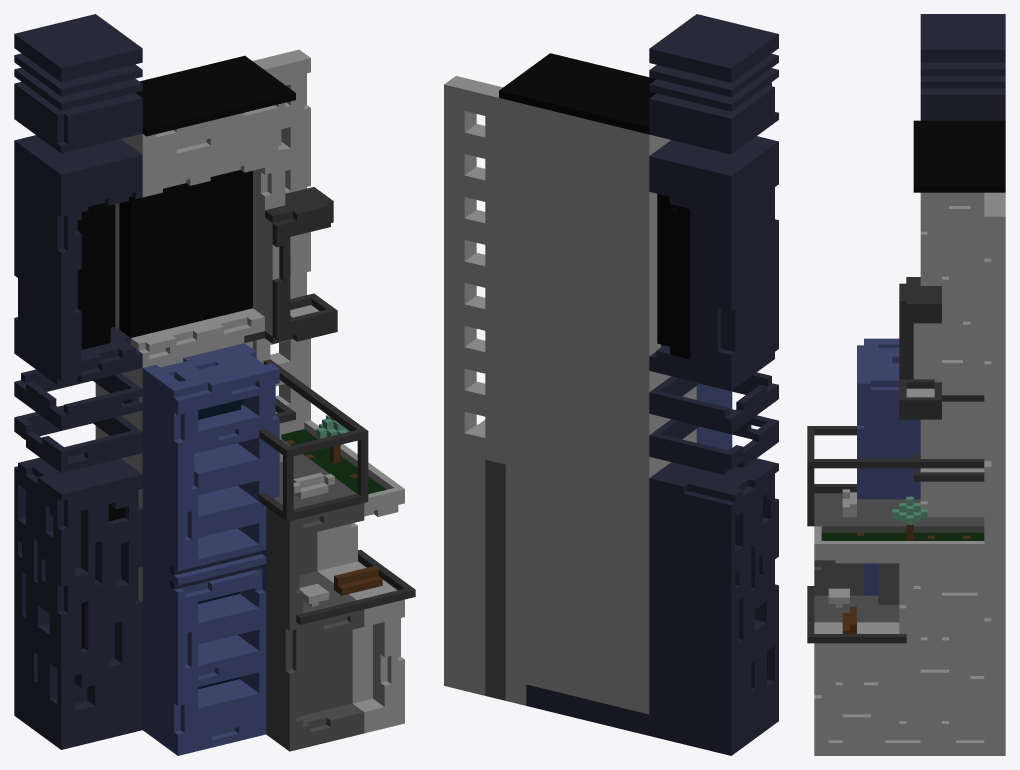
The model's file is Building4.obj.
The picture shows the model from 3 angles, left to right: view 1: azimuth 30°, elevation 25°; view 2: azimuth 150°, elevation 25°; view 3: azimuth 270°, elevation 25°; orthographic projection. The views are drawn at different scales.
Bounding box in the file's own units: 4.3 × 9.6 × 2.8.
1 material, 1 textured.
